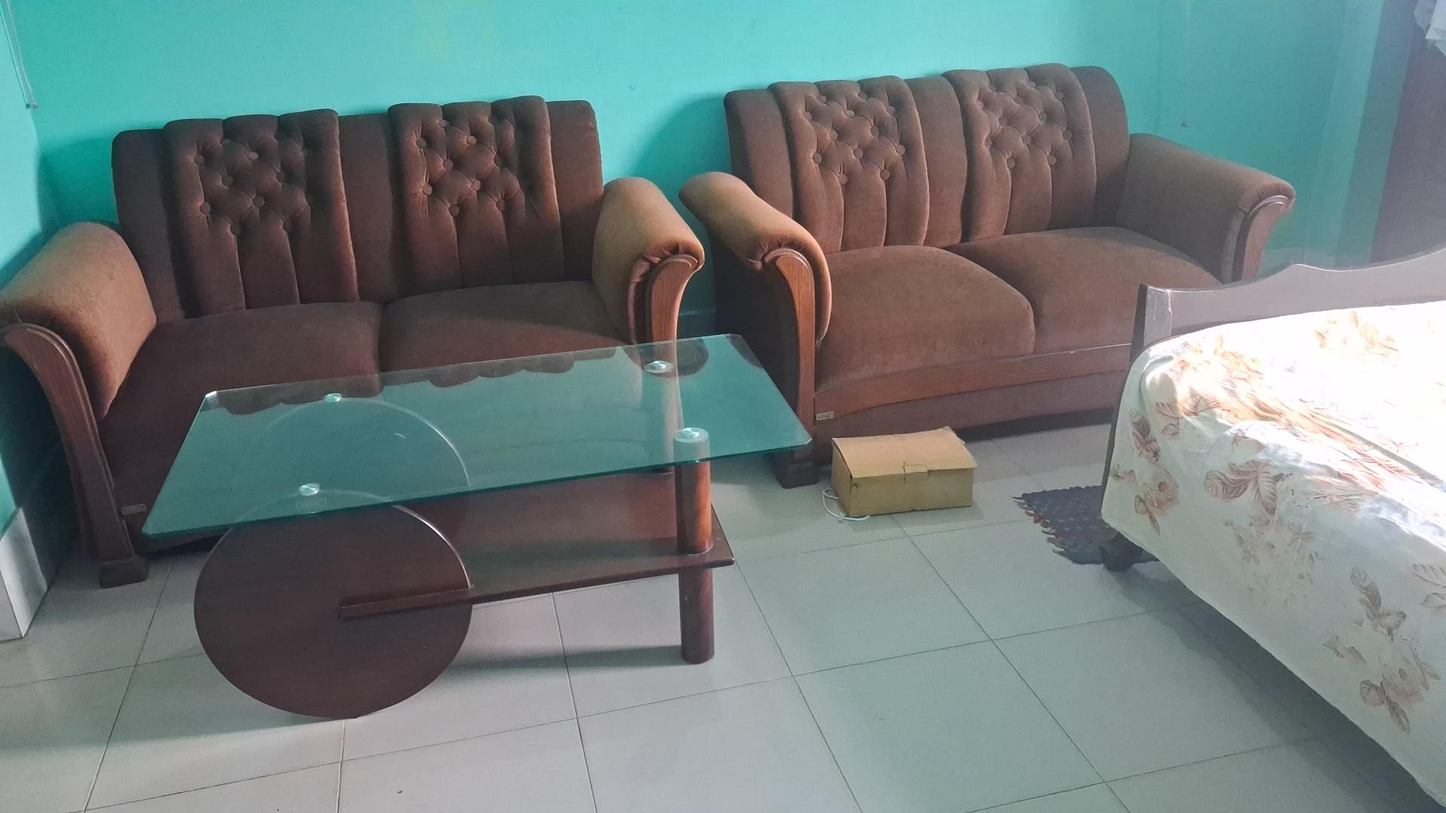Box: (835, 427, 980, 516)
Table: (134, 334, 811, 722)
